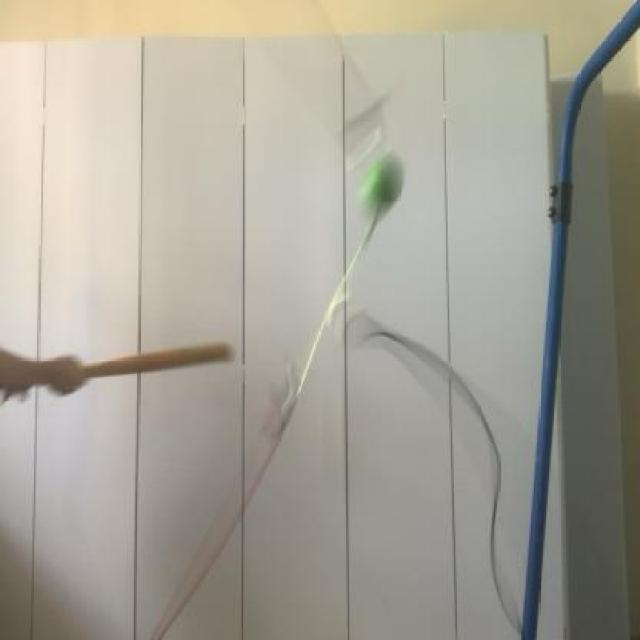baseball: (350, 147, 416, 230)
